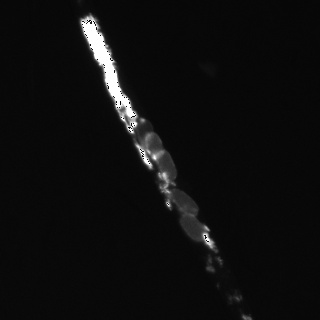embryo: (151, 149, 176, 180), (141, 131, 165, 163), (180, 215, 208, 242), (173, 189, 198, 216), (134, 117, 155, 149)
